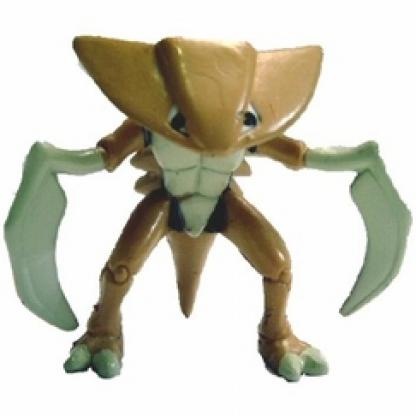Kabutops: (16, 28, 400, 386)
